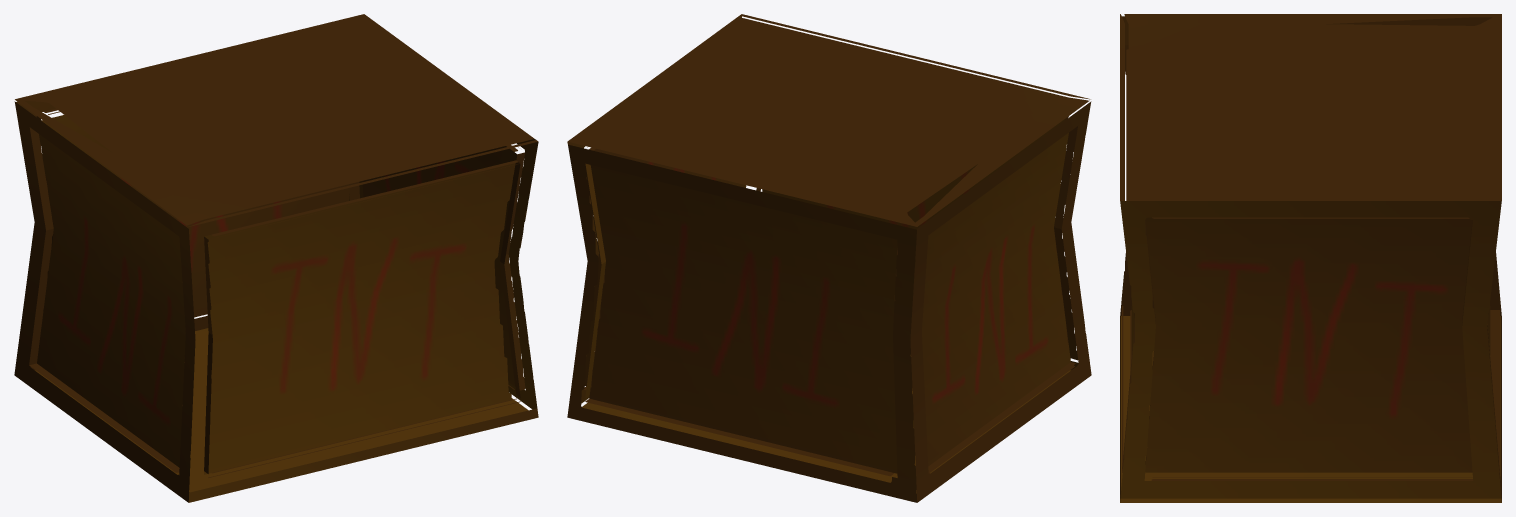
The model's file is tnt.obj.
3 views of the same model, side by side, from view 1: azimuth 30°, elevation 25°; view 2: azimuth 150°, elevation 25°; view 3: azimuth 270°, elevation 25° (orthographic). The views are drawn at different scales.
Parts seen in each view (by area): view 1: Box001; view 2: Box001; view 3: Box001.
Boxes of the visible parts, x1,y1,x2,y2 form: Box001: (14,14,538,502); Box001: (567,14,1091,502); Box001: (1120,14,1501,502).
Bounding box in the file's own units: 45.39 × 34.21 × 39.18.
